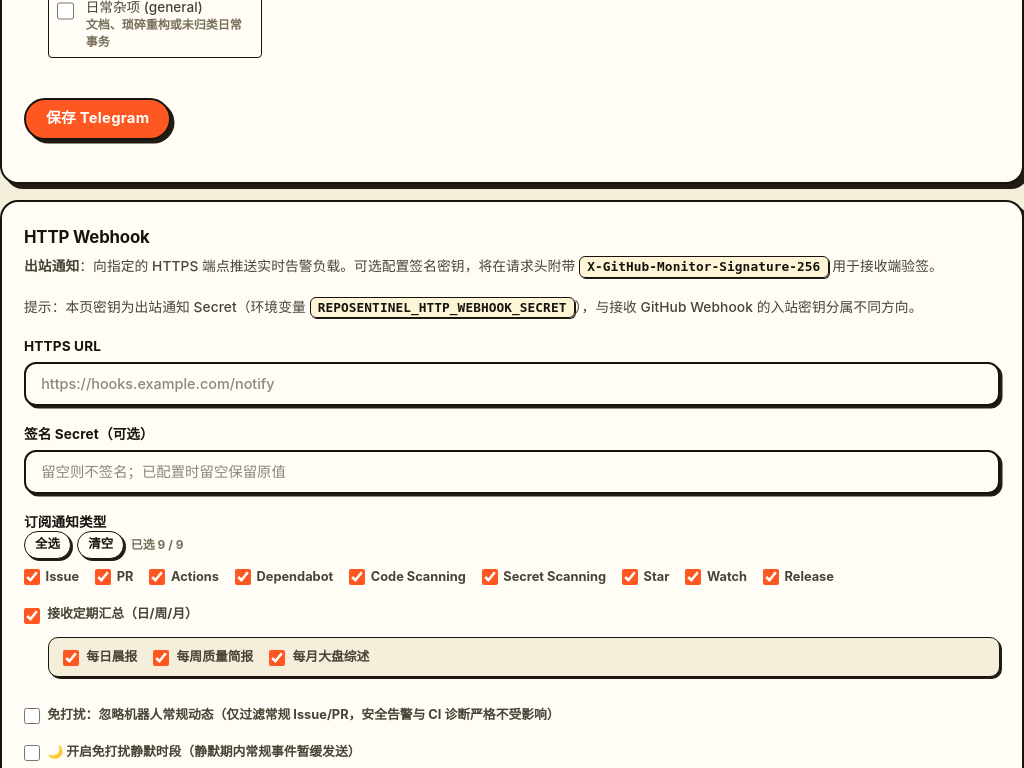
Scenario: NotifyPage › HTTP Webhook 目标失焦时校验 https 并提示格式问题
This screenshot has width=1024, height=768.
(page scrolled)
Type "http://hooks.example.com/notify" into the field labelled "HTTPS URL" at (512, 384), box [24, 362, 1000, 406]
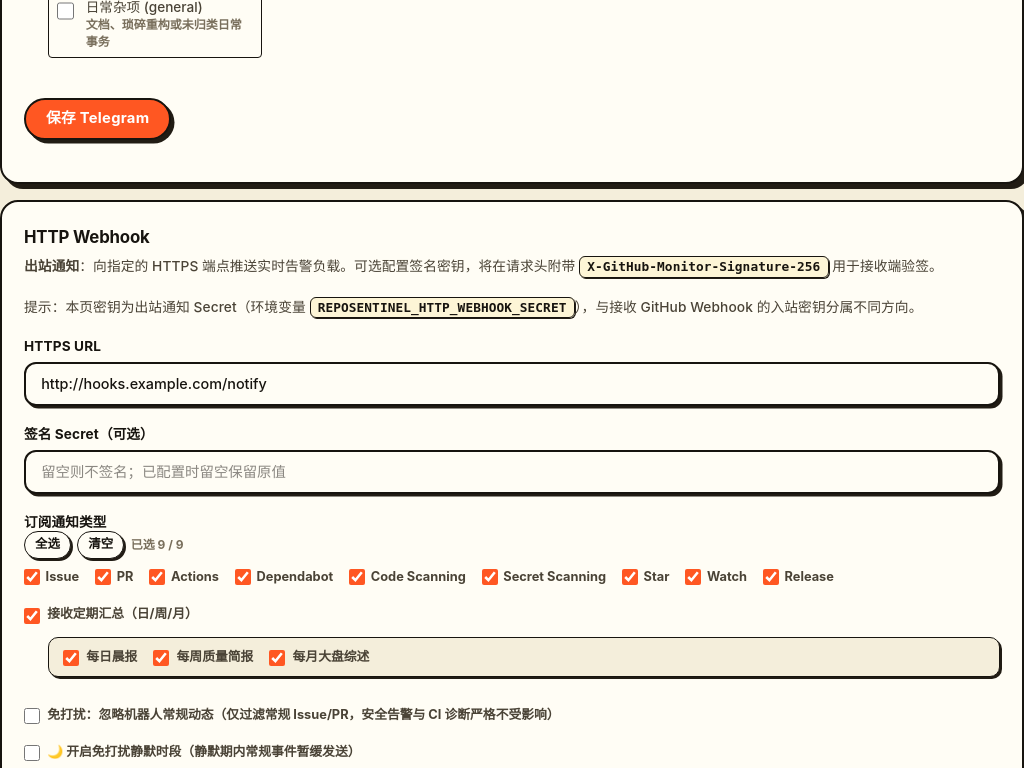
Leave the field labelled "HTTPS URL", box [24, 362, 1000, 406]
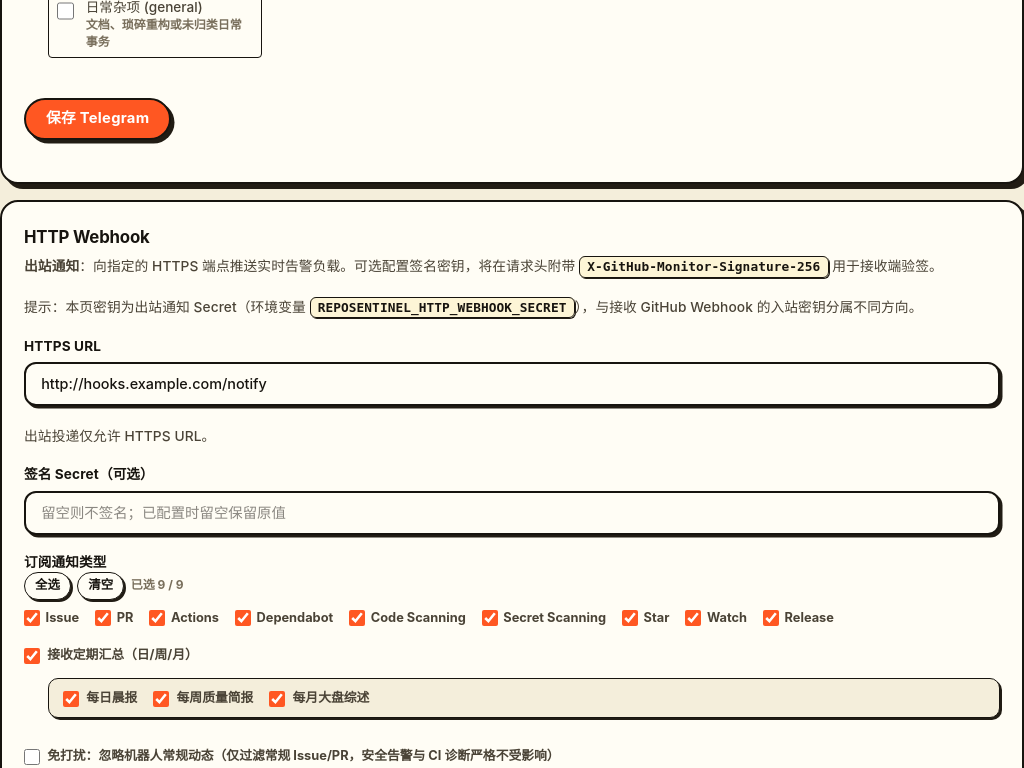
Expected: the text "出站投递仅允许 HTTPS URL。" is shown, [24, 428, 215, 444]
Replace the text in the field labelled "HTTPS URL" with "https://hooks.example.com/notify" at (512, 384), box [24, 362, 1000, 406]
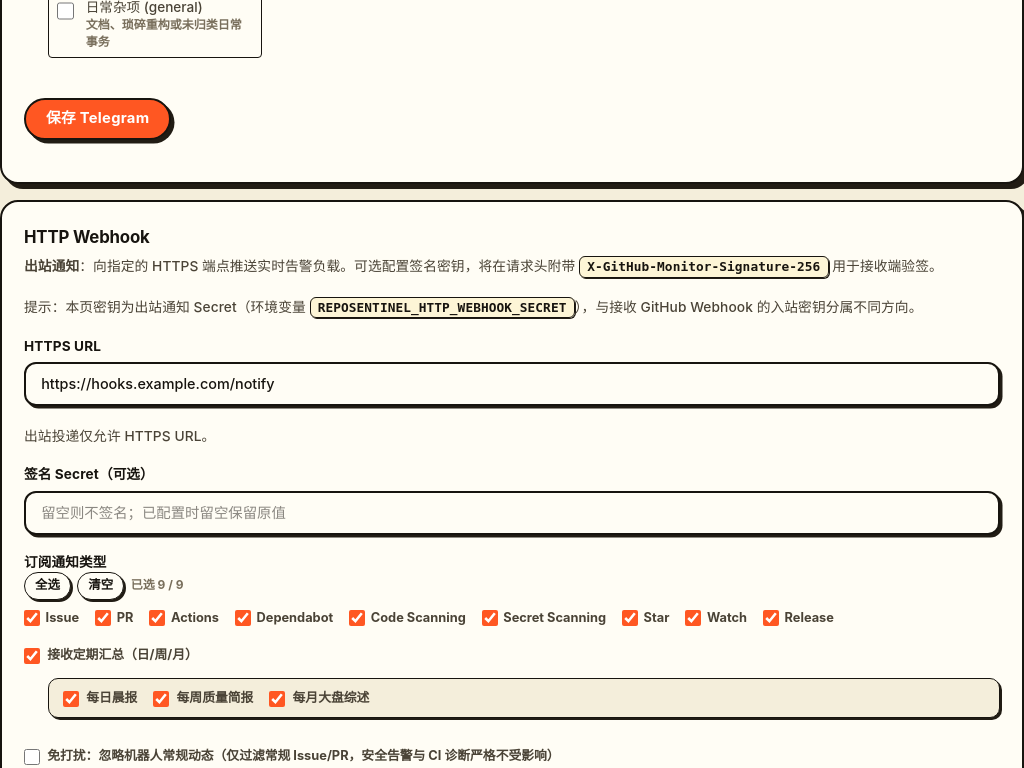
Leave the field labelled "HTTPS URL", box [24, 362, 1000, 406]
(page scrolled)
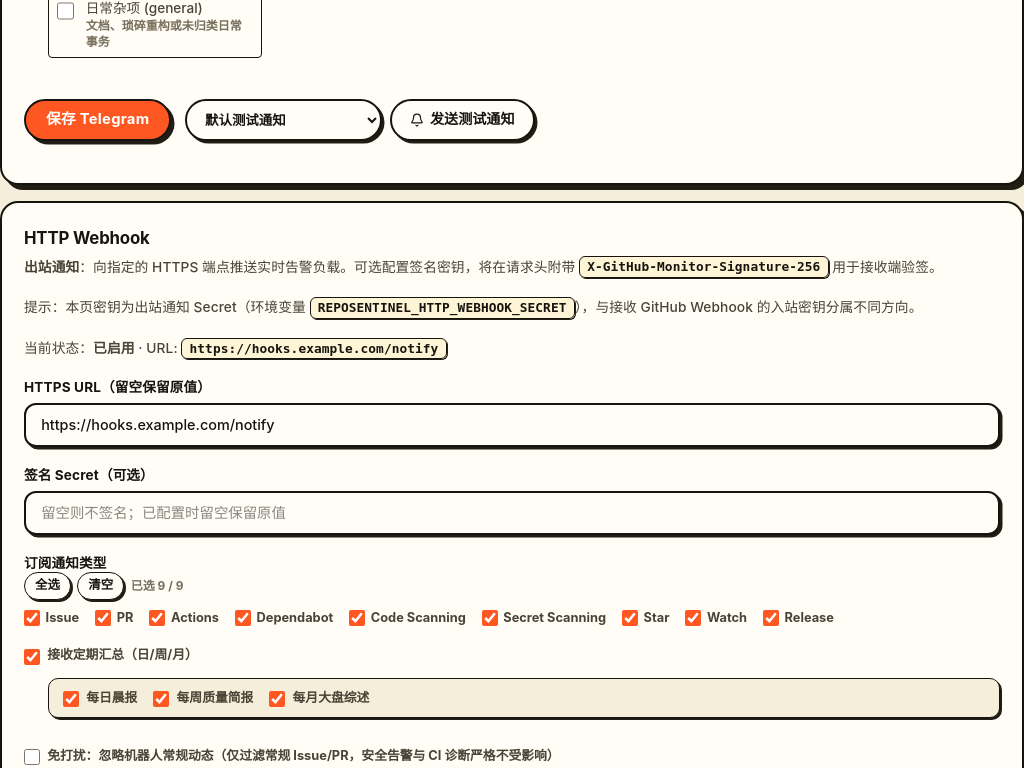
Expected: the text "仅允许 HTTPS URL" is gone
